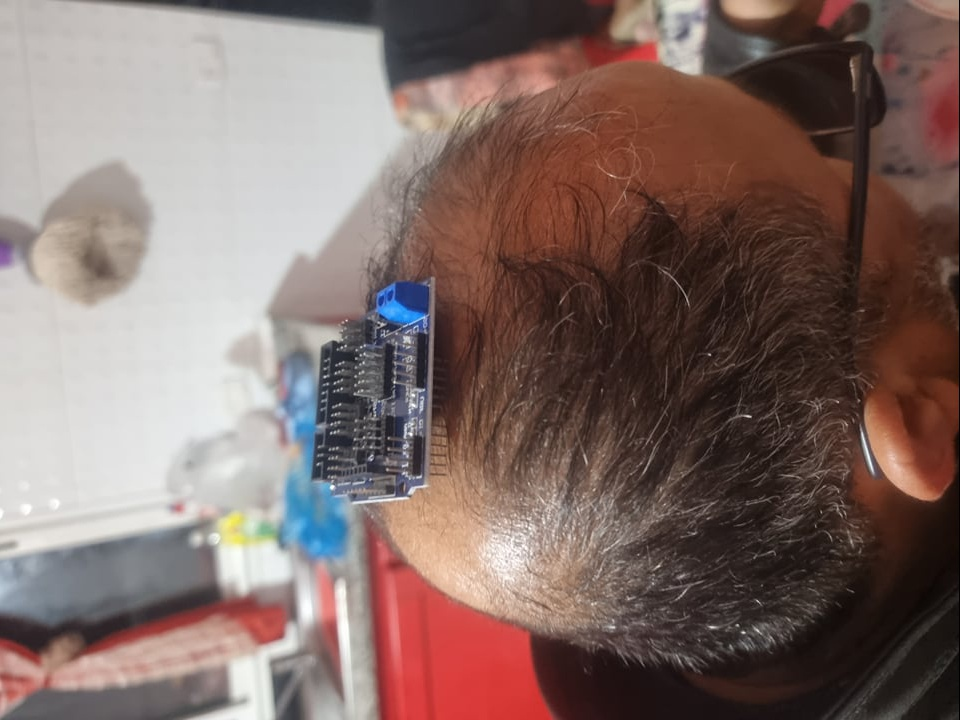5V EXPANSION: (313, 274, 455, 503)
